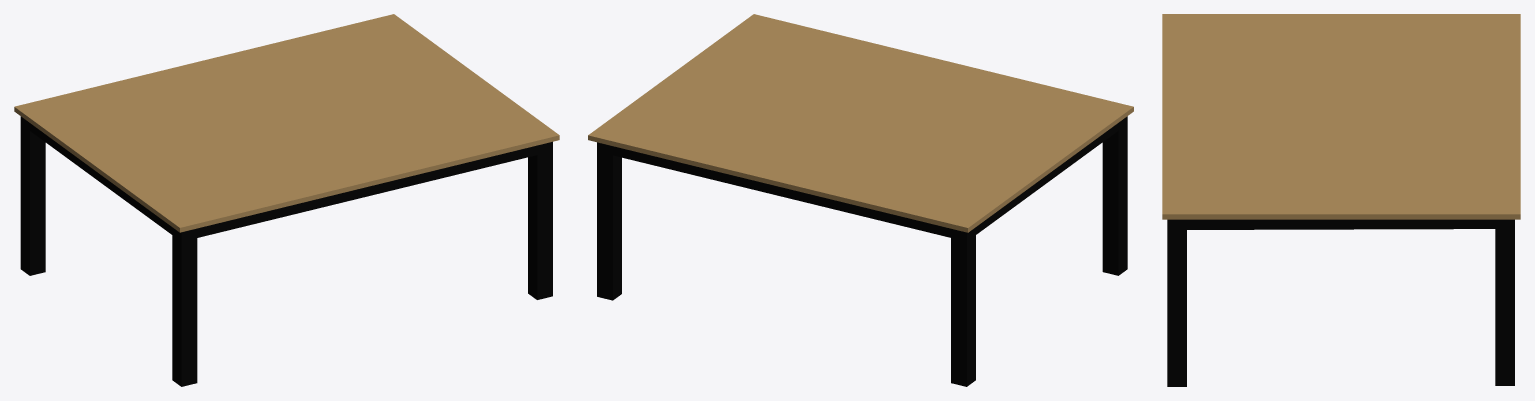
Rendered from PROJECT_CAUCHEMARE_TABLE_SAM.fbx.
3 renders of one model, left to right at view 1: azimuth 30°, elevation 25°; view 2: azimuth 150°, elevation 25°; view 3: azimuth 270°, elevation 25°, orthographic. The views are drawn at different scales.
Visible parts, largest first — view 1: CAUCHEMARE_PRJCT_TABLE_SAM:pCube8, CAUCHEMARE_PRJCT_TABLE_SAM:pCube7; view 2: CAUCHEMARE_PRJCT_TABLE_SAM:pCube8, CAUCHEMARE_PRJCT_TABLE_SAM:pCube7; view 3: CAUCHEMARE_PRJCT_TABLE_SAM:pCube8, CAUCHEMARE_PRJCT_TABLE_SAM:pCube7.
Part boxes in pixels (x1,y1,x2,y2): CAUCHEMARE_PRJCT_TABLE_SAM:pCube8: (14,14,559,232); CAUCHEMARE_PRJCT_TABLE_SAM:pCube7: (20,116,552,386); CAUCHEMARE_PRJCT_TABLE_SAM:pCube8: (588,14,1133,232); CAUCHEMARE_PRJCT_TABLE_SAM:pCube7: (597,116,1127,386); CAUCHEMARE_PRJCT_TABLE_SAM:pCube8: (1162,14,1520,219); CAUCHEMARE_PRJCT_TABLE_SAM:pCube7: (1167,219,1514,386).
Bounding box in the file's own units: 10.29 × 4.19 × 7.78.
